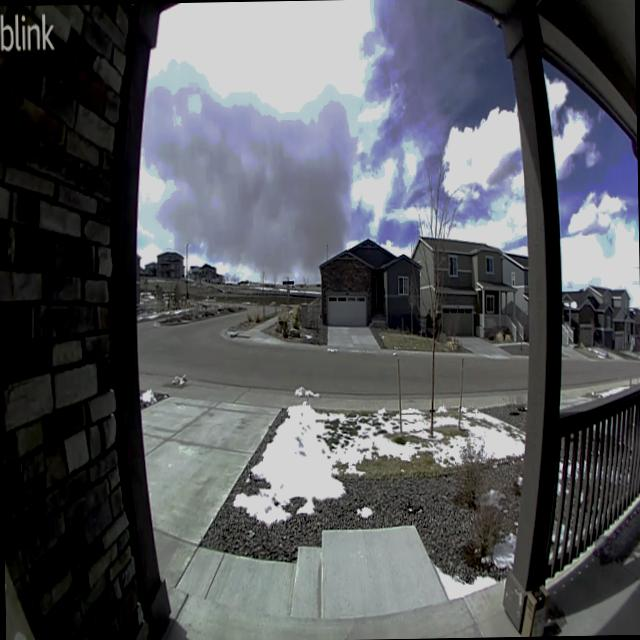Box: (521, 579, 552, 637)
